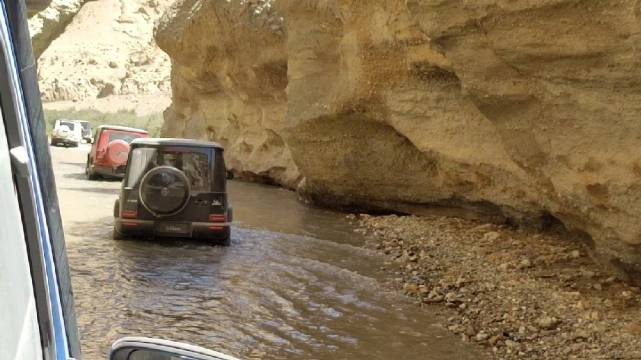other: (107, 142, 240, 251), (86, 120, 155, 182)
